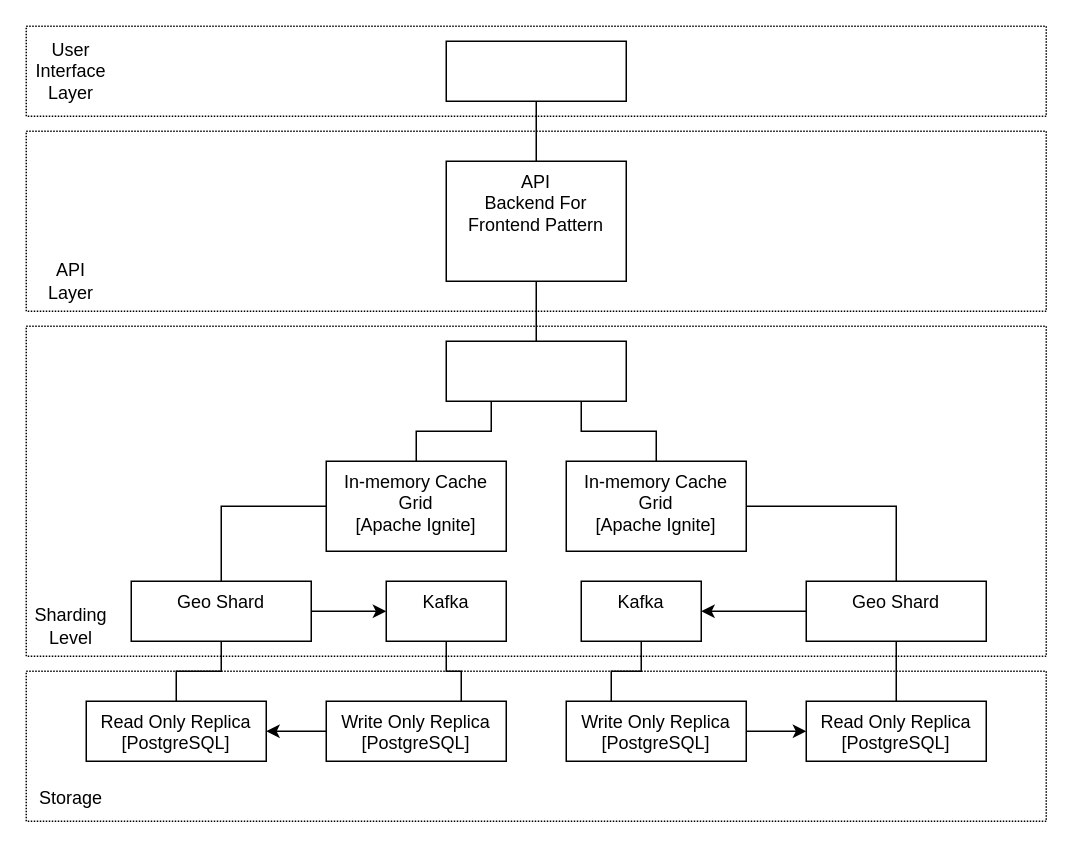
This 1073x848 diagram has some shape labels left out. The shapes that lost their labels are listed below. From the top down, each one's centre as x and y in pixels, then its label:
At point (535, 70): "Frontend System".
At point (535, 370): "Proxy".
